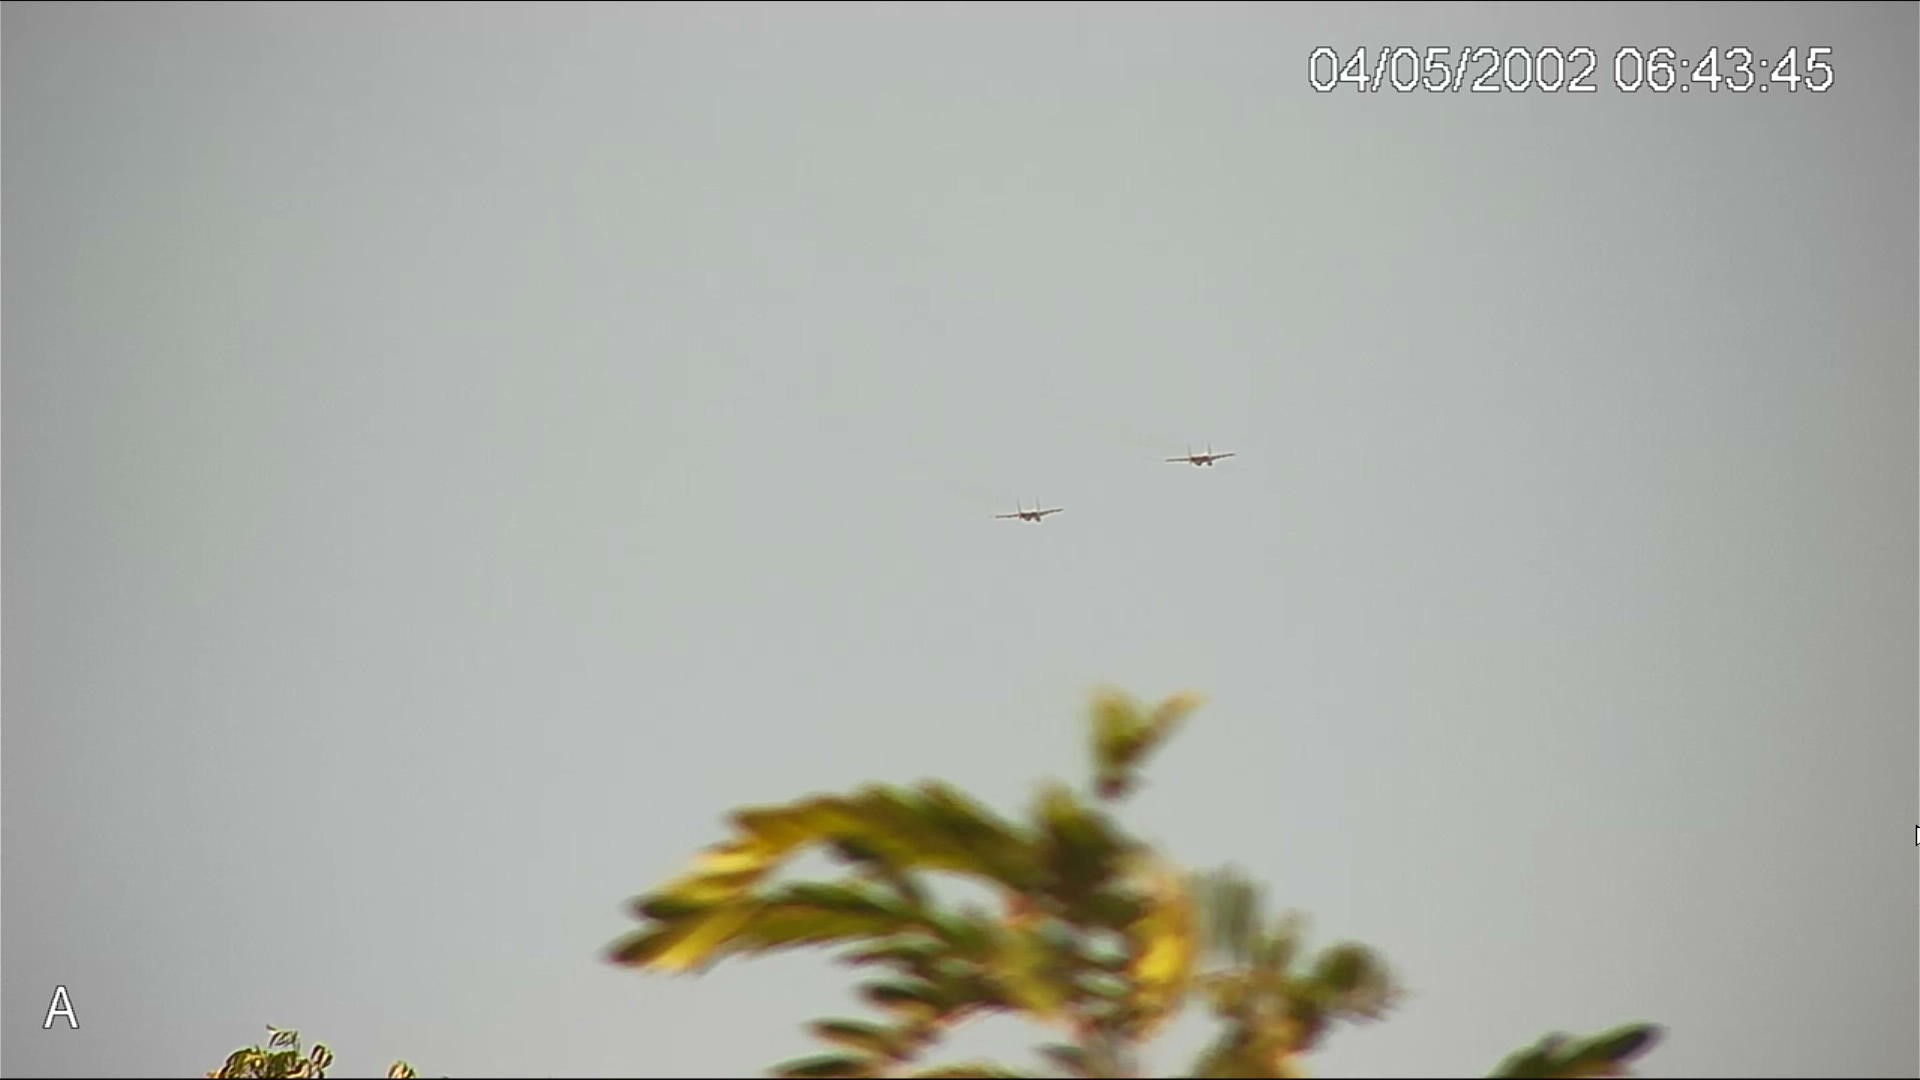SU_30: (1160, 443, 1241, 469), (997, 502, 1069, 524)
